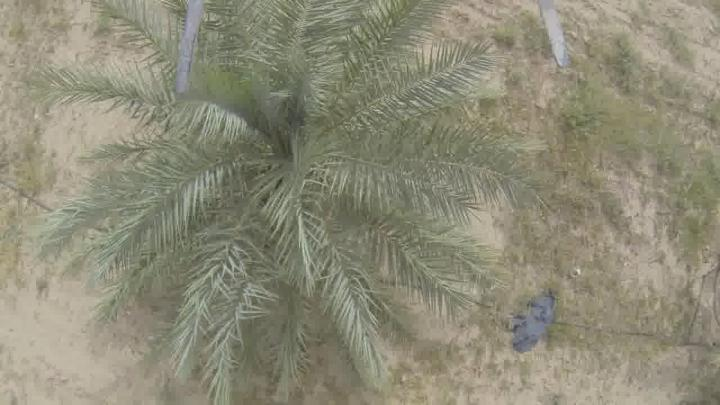Date-Palm-Crown: (125, 1, 432, 324)
